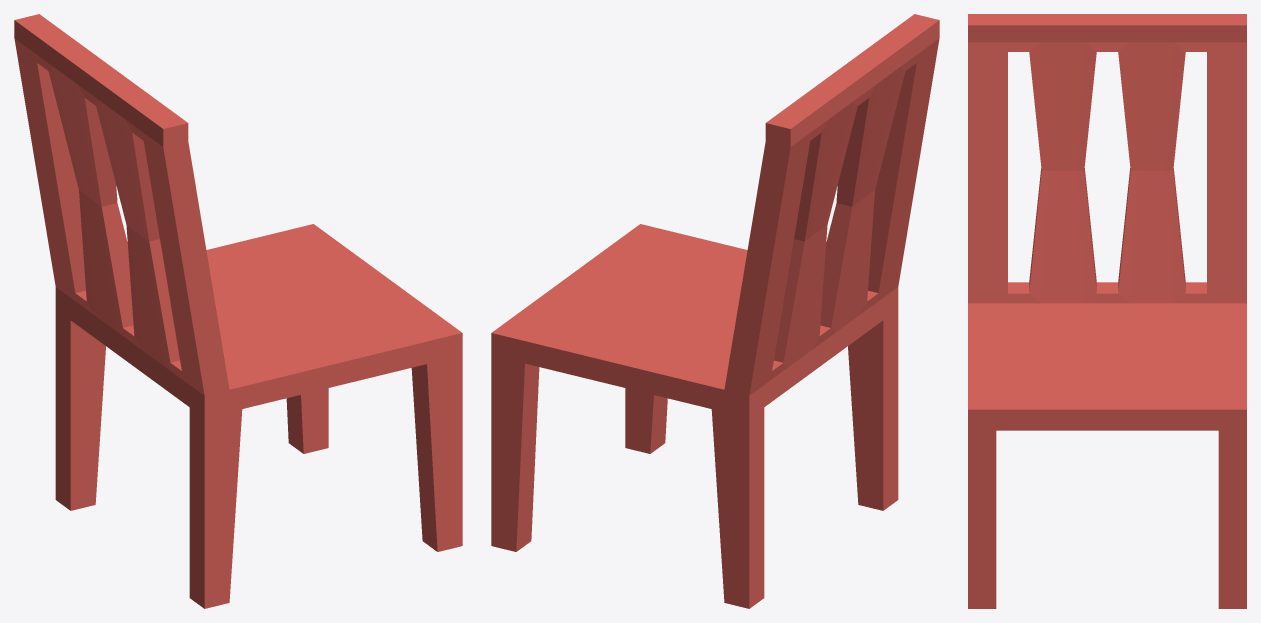
The model's file is chair.glb.
3 renders of one model, left to right at view 1: azimuth 30°, elevation 25°; view 2: azimuth 150°, elevation 25°; view 3: azimuth 270°, elevation 25°, orthographic. The views are drawn at different scales.
Visible parts, largest first — view 1: sedia1; view 2: sedia1; view 3: sedia1.
Part boxes in pixels (box(x1,y1,x2,y2)): sedia1: box(14, 14, 462, 608); sedia1: box(491, 14, 939, 608); sedia1: box(968, 14, 1246, 608).
Size of the model in its own units: 0.7565 by 1.18 by 0.6521.
